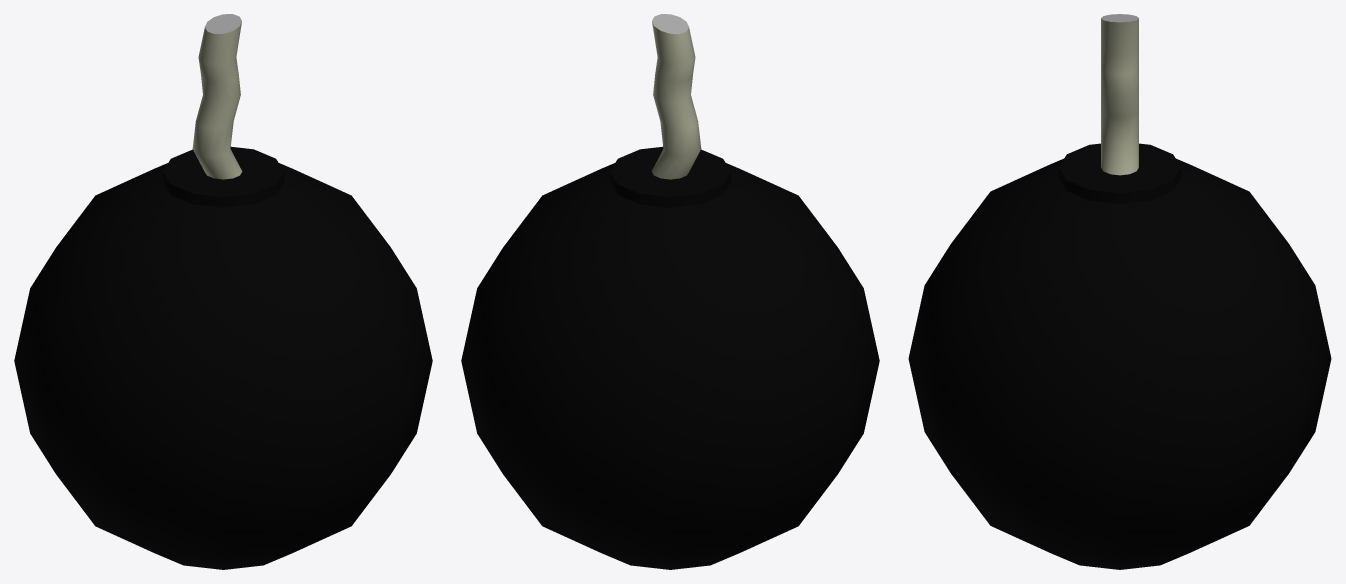
Rendered from Bomb.fbx.
3 views of the same model, side by side, from view 1: azimuth 30°, elevation 25°; view 2: azimuth 150°, elevation 25°; view 3: azimuth 270°, elevation 25° (orthographic).
Visible parts, largest first — view 1: BOMB; view 2: BOMB; view 3: BOMB.
Boxes of the visible parts, box(x1,y1,x2,y2) form: BOMB: box(14, 14, 432, 569); BOMB: box(461, 14, 879, 569); BOMB: box(908, 14, 1331, 569).
Bounding box in the file's own units: 51.81 × 72.43 × 51.81.
